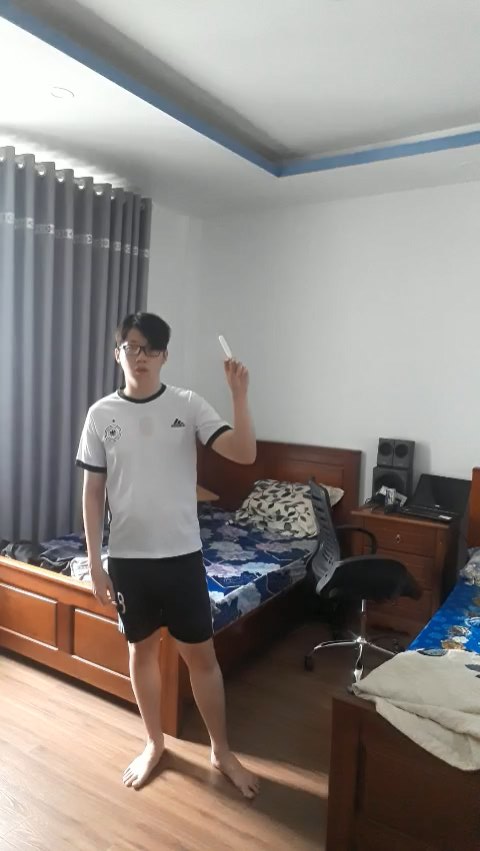cigarette: (214, 331, 235, 362)
person: (68, 301, 268, 807)
